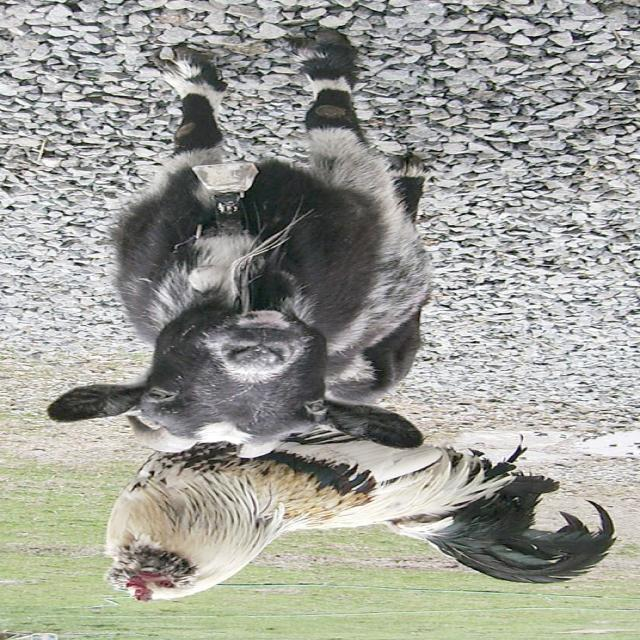Goat: (45, 31, 435, 460), (102, 431, 618, 604)
